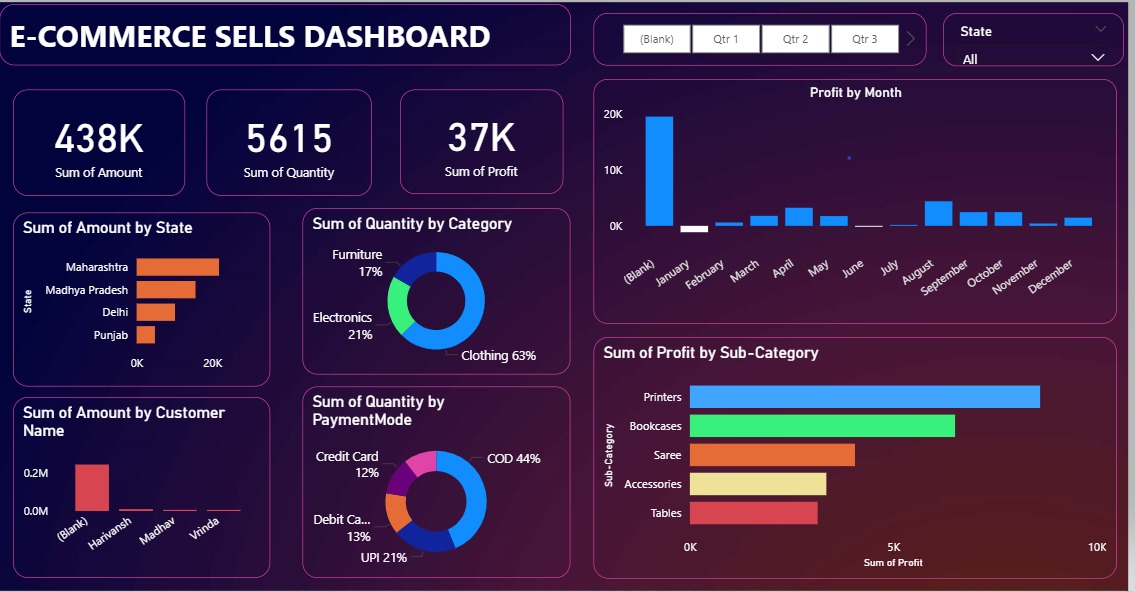

The dashboard page shown, as its layout file describes it:
{"tool":"powerbi","page":{"name":"Page 1","canvas":[1280,720],"ordinal":0},"visuals":[{"type":"textbox","box":[39.9,44.7,608.7,65.5],"z":0},{"type":"columnChart","title":" Profit by Month","fields":{"Category":["Orders.Order date.Variation.Date Hierarchy.Month"],"Y":["Details.Profit"]},"box":[672.6,124.6,557.6,260.4],"z":1000},{"type":"barChart","fields":{"Category":["Details.Sub-Category"],"Y":["Details.Profit"]},"box":[672.8,398.7,557.5,257],"z":2000},{"type":"donutChart","fields":{"Category":["Details.Category"],"Y":["Details.Quantity"]},"box":[362.8,262.7,285.4,177.6],"z":3000},{"type":"donutChart","fields":{"Category":["Details.PaymentMode"],"Y":["Details.Quantity"]},"box":[362.8,451.7,285.4,204.1],"z":4000},{"type":"card","fields":{"Values":["Details.Amount"]},"box":[54.8,136.1,183.3,113.4],"z":5000},{"type":"card","fields":{"Values":["Details.Quantity"]},"box":[260.8,136.1,175.7,113.4],"z":6000},{"type":"card","fields":{"Values":["Details.Profit"]},"box":[466.8,136.1,173.9,111.5],"z":7000},{"type":"barChart","fields":{"Category":["Orders.State"],"Y":["Details.Amount"]},"box":[54.8,266.5,274,185.2],"z":8000},{"type":"columnChart","fields":{"Category":["Orders. Customer Name"],"Y":["Details.Amount"]},"box":[54.8,463,274,192.8],"z":9000},{"type":"slicer","fields":{"Values":["Orders.Order date.Variation.Date Hierarchy.Quarter"]},"box":[672.6,54.3,354.7,55.9],"z":10000},{"type":"slicer","fields":{"Values":["Orders.State"]},"box":[1045,54.8,192.8,56.7],"z":11000}]}

Visuals, with their boxes on the page's 1280x720 design canvas (x1, y1, x2, y2). These are canvas units, not pixel positions in the 1135x592 screenshot, which may show the page scaled, cropped or inside an application window:
textbox: [40, 45, 649, 110]
" Profit by Month" columnChart: [673, 125, 1230, 385]
barChart - Details.Sub-Category x Details.Profit: [673, 399, 1230, 656]
donutChart - Details.Category x Details.Quantity: [363, 263, 648, 440]
donutChart - Details.PaymentMode x Details.Quantity: [363, 452, 648, 656]
card - Details.Amount: [55, 136, 238, 250]
card - Details.Quantity: [261, 136, 436, 250]
card - Details.Profit: [467, 136, 641, 248]
barChart - Orders.State x Details.Amount: [55, 266, 329, 452]
columnChart - Orders. Customer Name x Details.Amount: [55, 463, 329, 656]
slicer - Orders.Order date.Variation.Date Hierarchy.Quarter: [673, 54, 1027, 110]
slicer - Orders.State: [1045, 55, 1238, 112]
